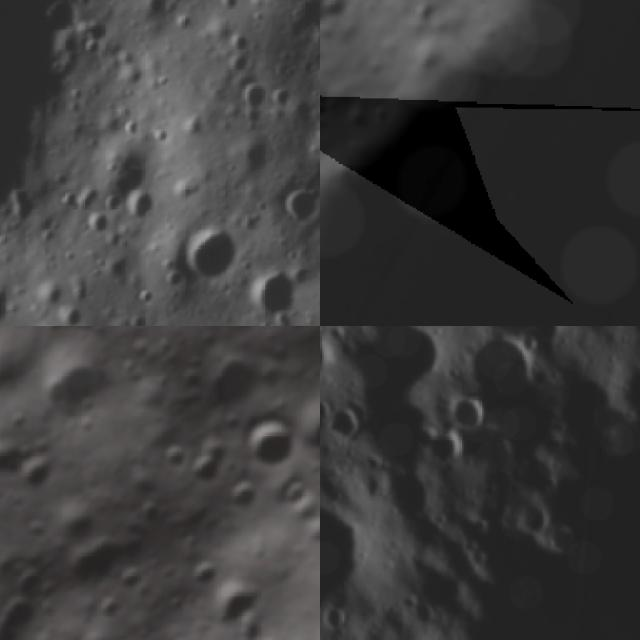crater: (394, 354, 640, 640), (23, 337, 122, 438), (320, 488, 375, 624), (91, 132, 166, 212), (193, 339, 269, 417), (58, 517, 133, 593), (176, 221, 249, 293), (197, 568, 269, 640), (237, 407, 306, 478), (247, 260, 299, 326), (320, 0, 371, 60), (186, 436, 237, 488), (7, 449, 58, 498), (225, 137, 269, 190), (287, 387, 320, 456), (424, 424, 464, 480), (452, 389, 492, 440), (180, 547, 225, 592), (274, 190, 320, 232), (0, 592, 39, 639), (276, 468, 319, 510), (235, 76, 279, 116), (514, 496, 554, 540), (282, 95, 320, 140), (37, 0, 78, 41), (173, 107, 213, 149), (2, 187, 37, 235), (128, 488, 168, 528), (12, 562, 52, 602), (157, 435, 195, 475), (121, 186, 159, 225), (224, 473, 262, 512), (328, 405, 368, 442), (290, 502, 320, 550), (90, 588, 128, 625), (222, 44, 258, 81), (407, 0, 446, 32), (37, 276, 71, 312), (320, 0, 358, 27), (301, 127, 320, 178), (117, 562, 148, 593), (82, 211, 111, 243), (477, 0, 540, 14), (224, 28, 256, 54), (54, 186, 79, 217), (0, 280, 16, 326), (320, 333, 335, 376), (61, 303, 87, 326), (268, 340, 292, 364), (92, 0, 123, 12)
